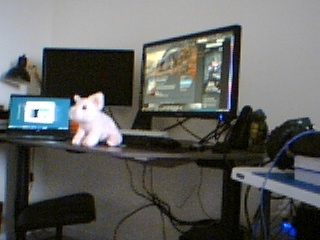piggy: (67, 90, 124, 151)
